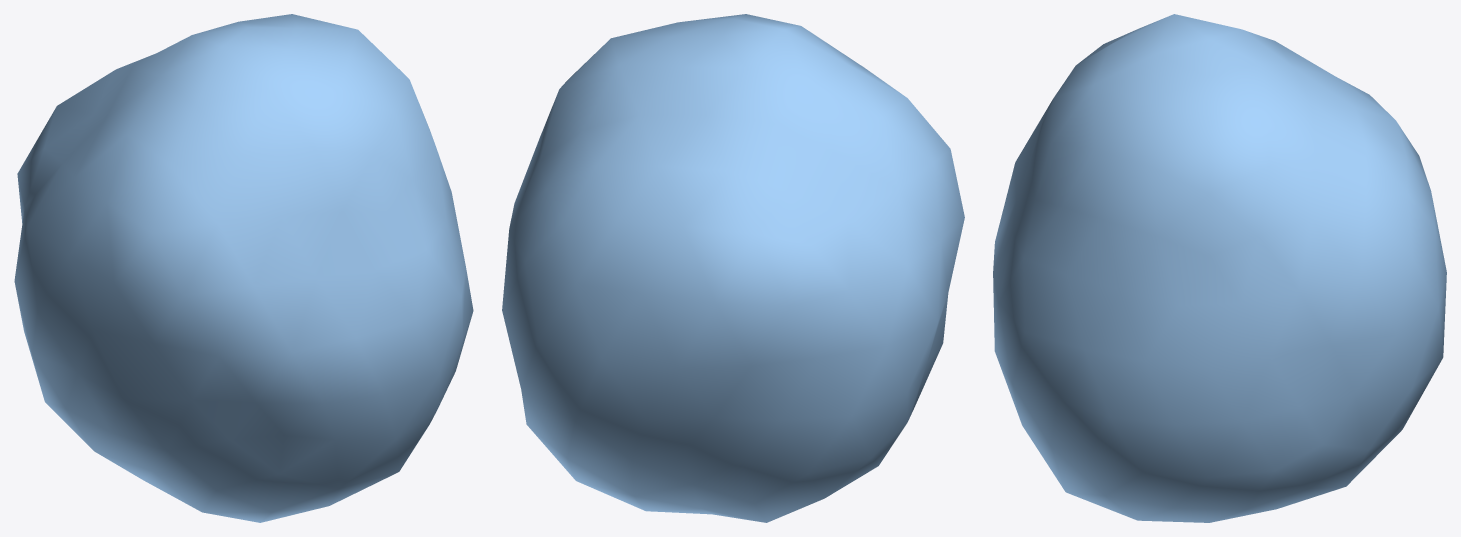
The model's file is Soda.glb.
3 views of the same model, side by side, from view 1: azimuth 30°, elevation 25°; view 2: azimuth 150°, elevation 25°; view 3: azimuth 270°, elevation 25° (orthographic).
Visible parts, largest first — view 1: SodaBlob; view 2: SodaBlob; view 3: SodaBlob.
Boxes of the visible parts, left/top/right/bottom form: SodaBlob: left=14, top=14, right=473, bottom=522; SodaBlob: left=502, top=14, right=964, bottom=522; SodaBlob: left=993, top=14, right=1446, bottom=522.
Bounding box in the file's own units: 0.399 × 0.4536 × 0.3909.
